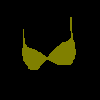reggiseno: (22, 17, 76, 70)
